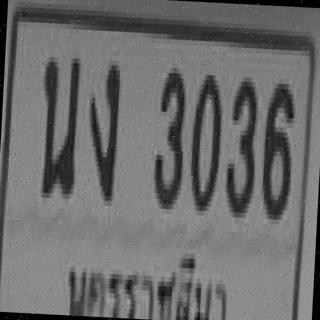A07: (85, 55, 119, 196)
A25: (37, 47, 81, 194)
N00: (188, 70, 222, 206)
N03: (223, 69, 258, 211), (152, 63, 186, 204)
N06: (260, 76, 294, 213)
P30: (62, 238, 234, 320)
